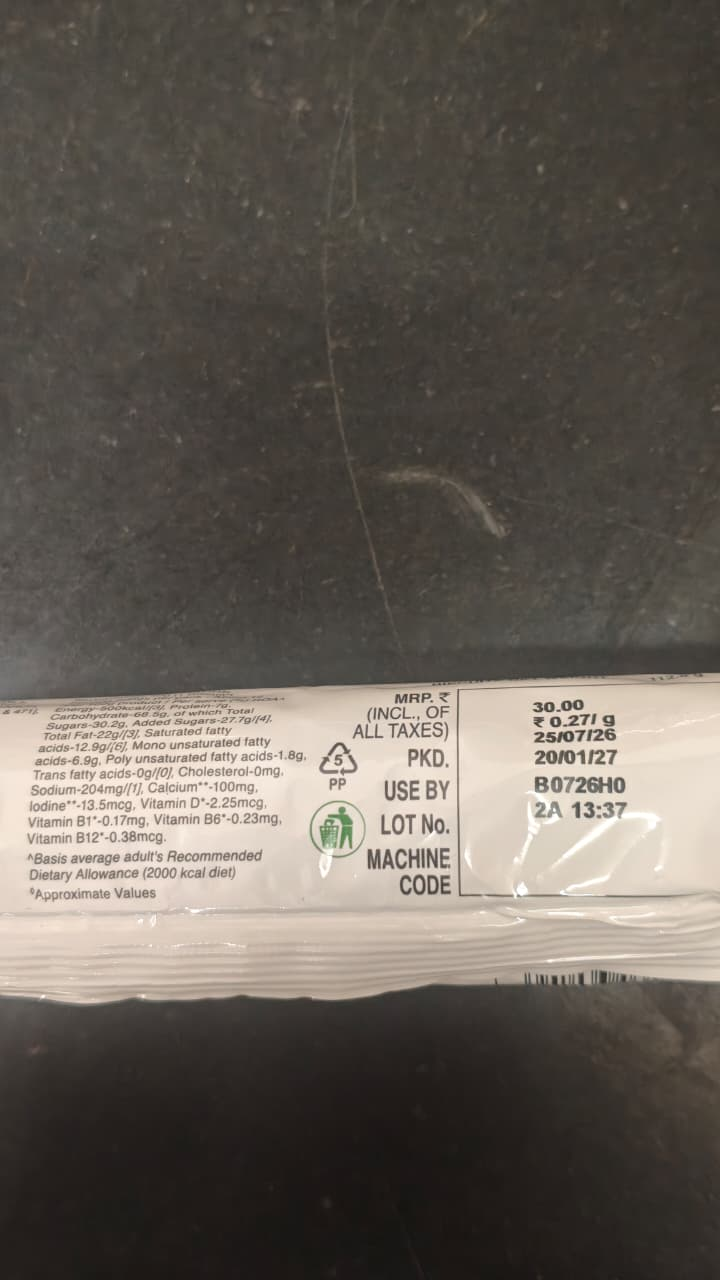EXP_Date: (528, 745, 631, 772)
Ingredients: (21, 716, 304, 912)
MFG_Date: (524, 724, 626, 747)
MRP: (516, 690, 603, 717)
